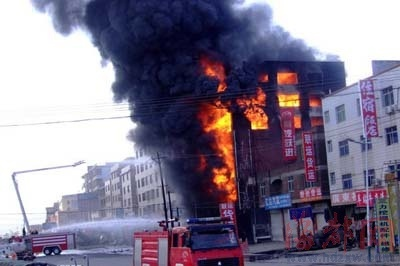fire: (198, 65, 235, 203), (226, 70, 304, 131)
